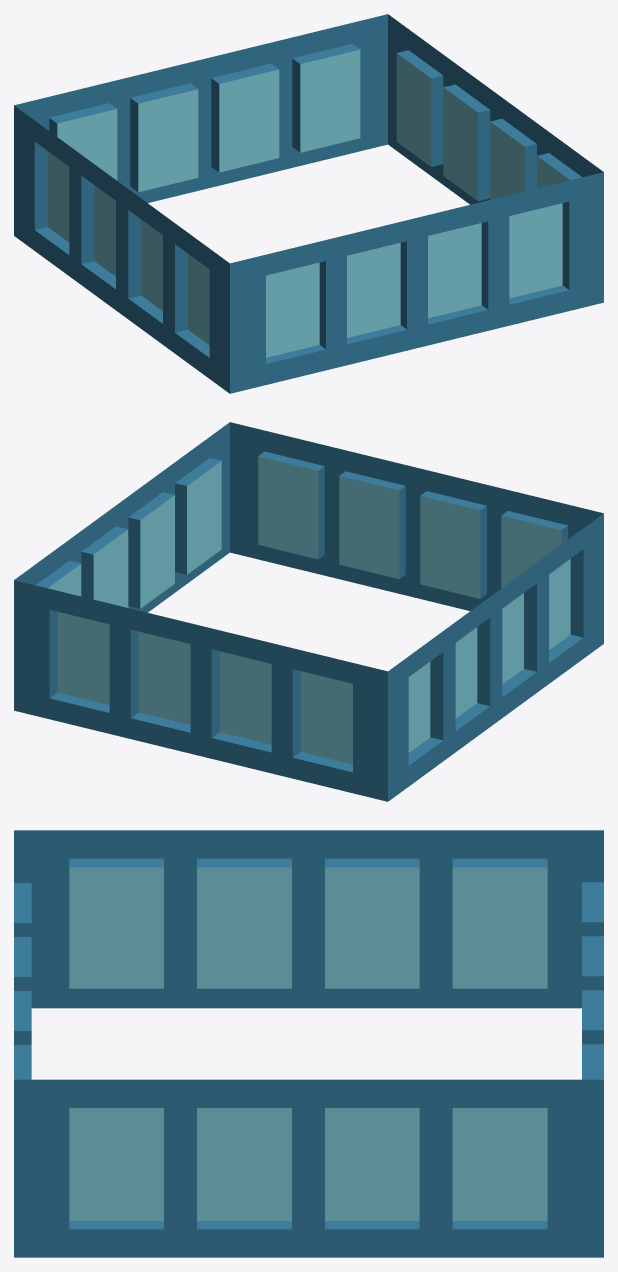
File: SkyScraper_Middle_03_blue.fbx
The picture shows the model from 3 angles, top to bottom: view 1: azimuth 30°, elevation 25°; view 2: azimuth 150°, elevation 25°; view 3: azimuth 270°, elevation 25°; orthographic projection. The views are drawn at different scales.
Parts seen in each view (by area): view 1: SkyScraper_Middle_05; view 2: SkyScraper_Middle_05; view 3: SkyScraper_Middle_05.
Part boxes in pixels (x1=…): SkyScraper_Middle_05: x1=14, y1=14, x2=603, y2=393; SkyScraper_Middle_05: x1=14, y1=422, x2=603, y2=801; SkyScraper_Middle_05: x1=14, y1=830, x2=603, y2=1257.
Size of the model in its own units: 96 by 32 by 96.
